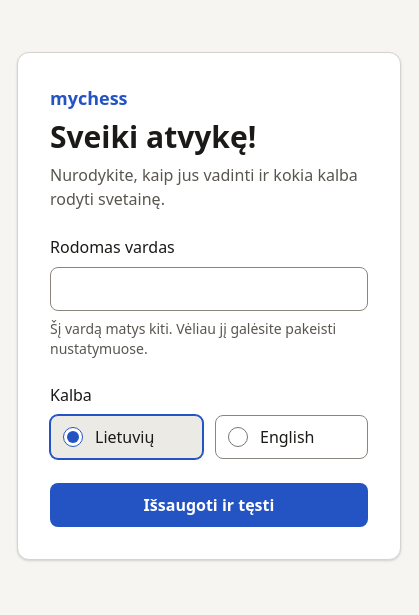
OnboardingForm › shows a refusal in the page language and marks the name field
Step 1. Click the button "Išsaugoti ir tęsti" → (209, 505), box [50, 483, 368, 527]
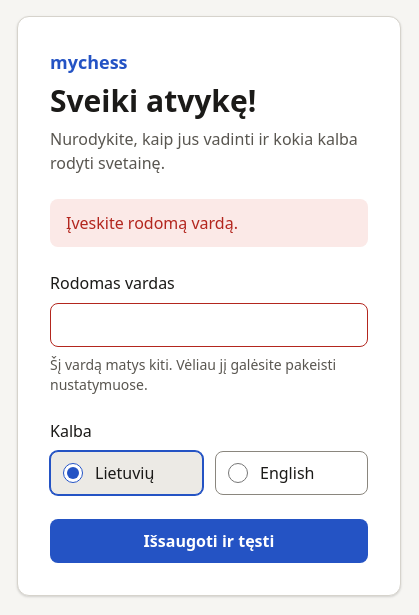
Check: the message reads "Įveskite rodomą vardą.", box [66, 212, 238, 234]
